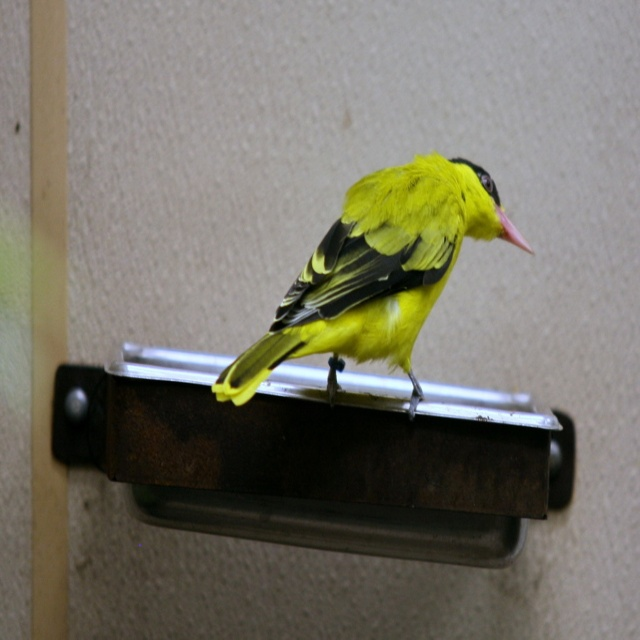Canary: (212, 152, 534, 409)
